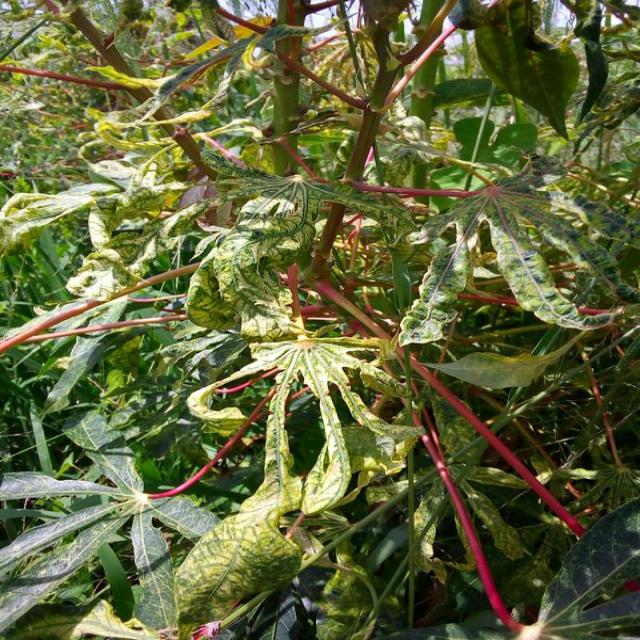cassava leaf: (0, 0, 638, 638), (173, 504, 302, 638), (473, 2, 579, 141)
